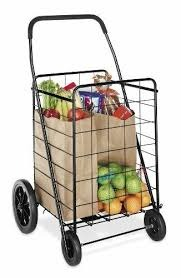with_basket: (13, 13, 167, 268)
